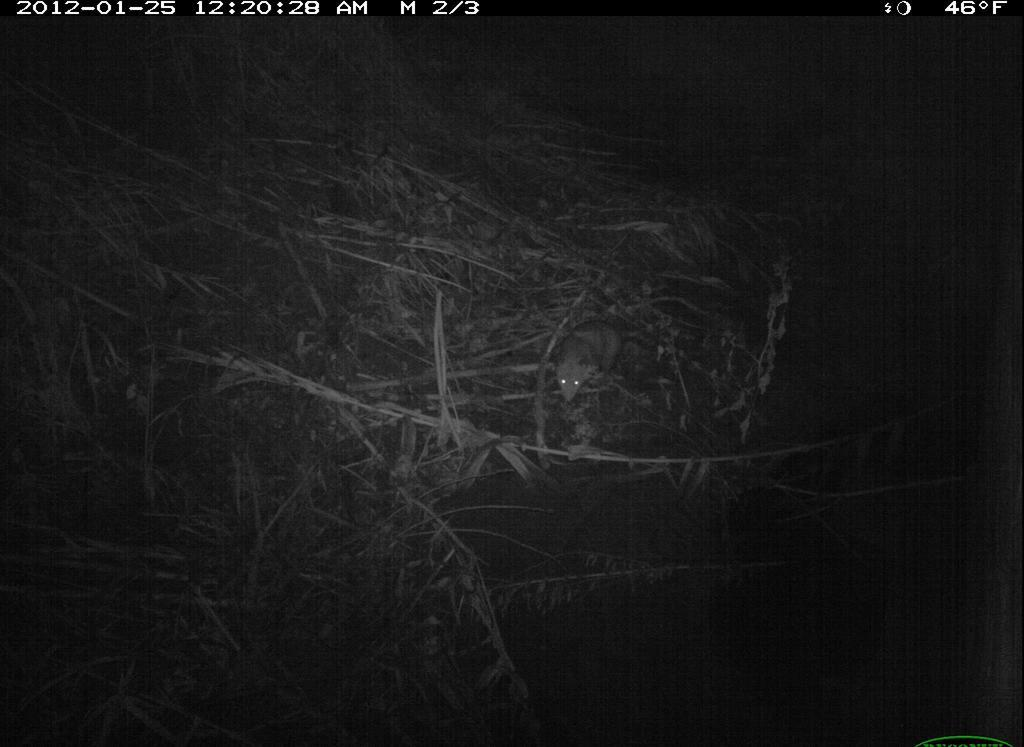opossum: (552, 310, 647, 409)
